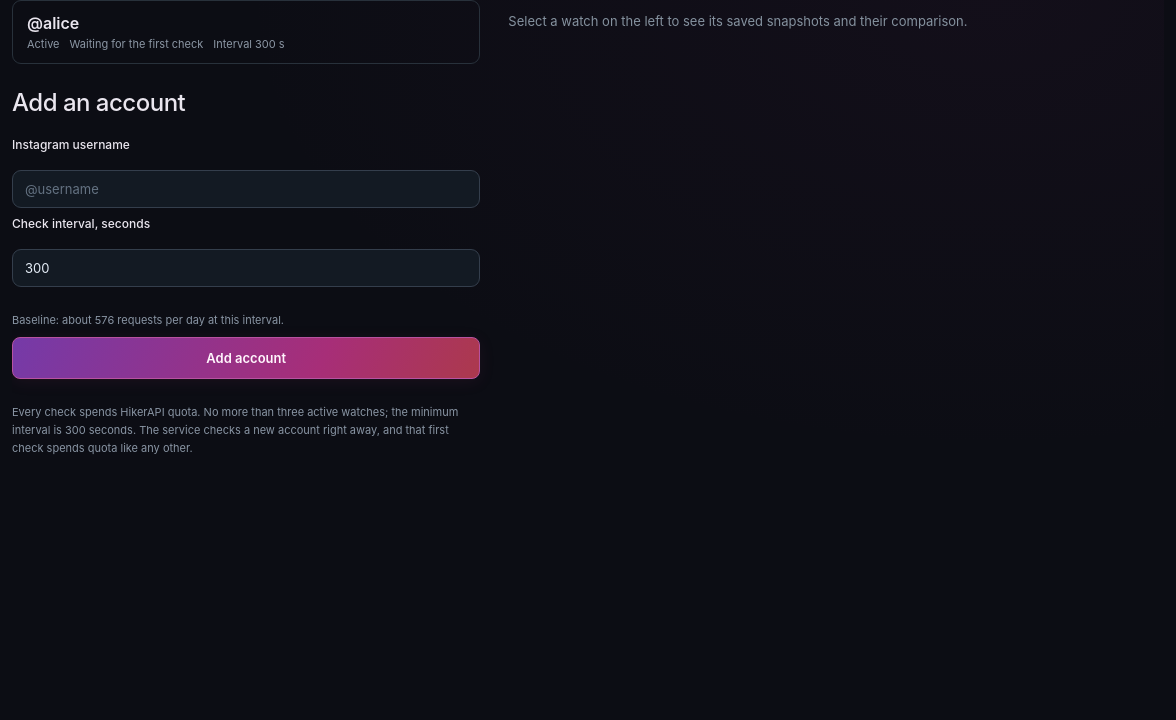
Scenario: watches view › shows the stale banner and disables every mutation of the selected watch while stale
The image size is (1176, 720).
Click the option "@alice Active Waiting for the first check Interval 300 s".
click(53, 23)  # box [12, 0, 480, 64]
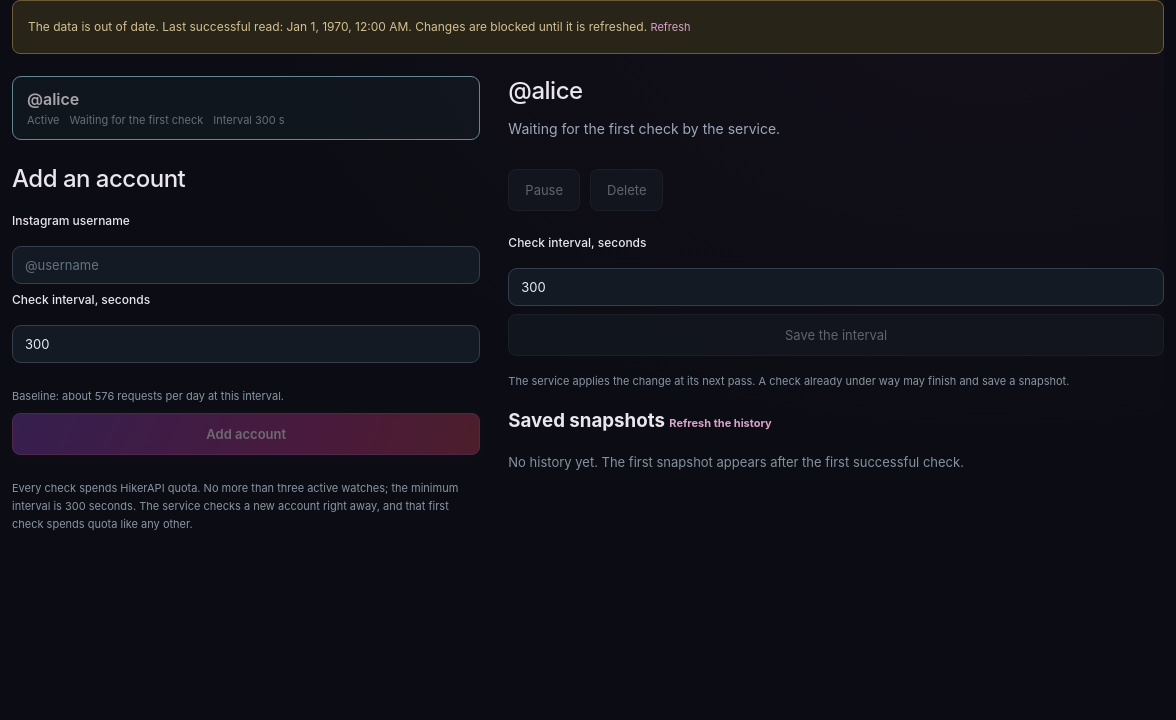
expect the text "The data is out of date" is shown: met, box [28, 19, 650, 34]
expect the button "Refresh" is shown: met, box [650, 14, 691, 40]
expect the button "Refresh the history" is enabled: met, box [669, 410, 772, 436]
